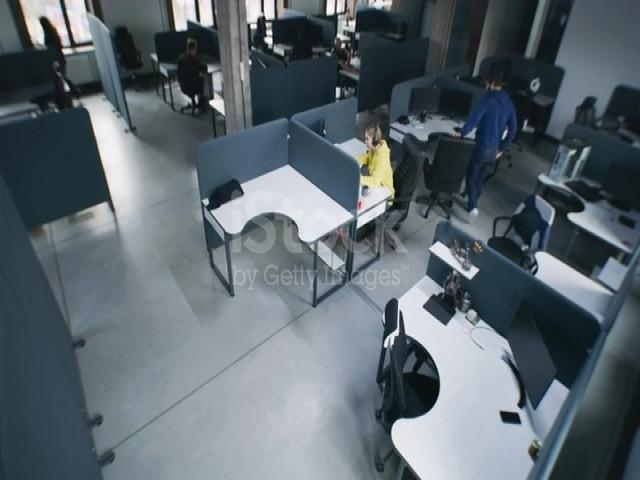empty chair: (350, 278, 425, 457), (486, 187, 559, 286), (428, 118, 471, 221), (106, 11, 143, 90), (510, 64, 533, 148), (44, 54, 74, 117), (573, 83, 606, 132)
occupiedchair: (349, 119, 422, 245), (312, 14, 362, 116), (173, 20, 221, 123)
